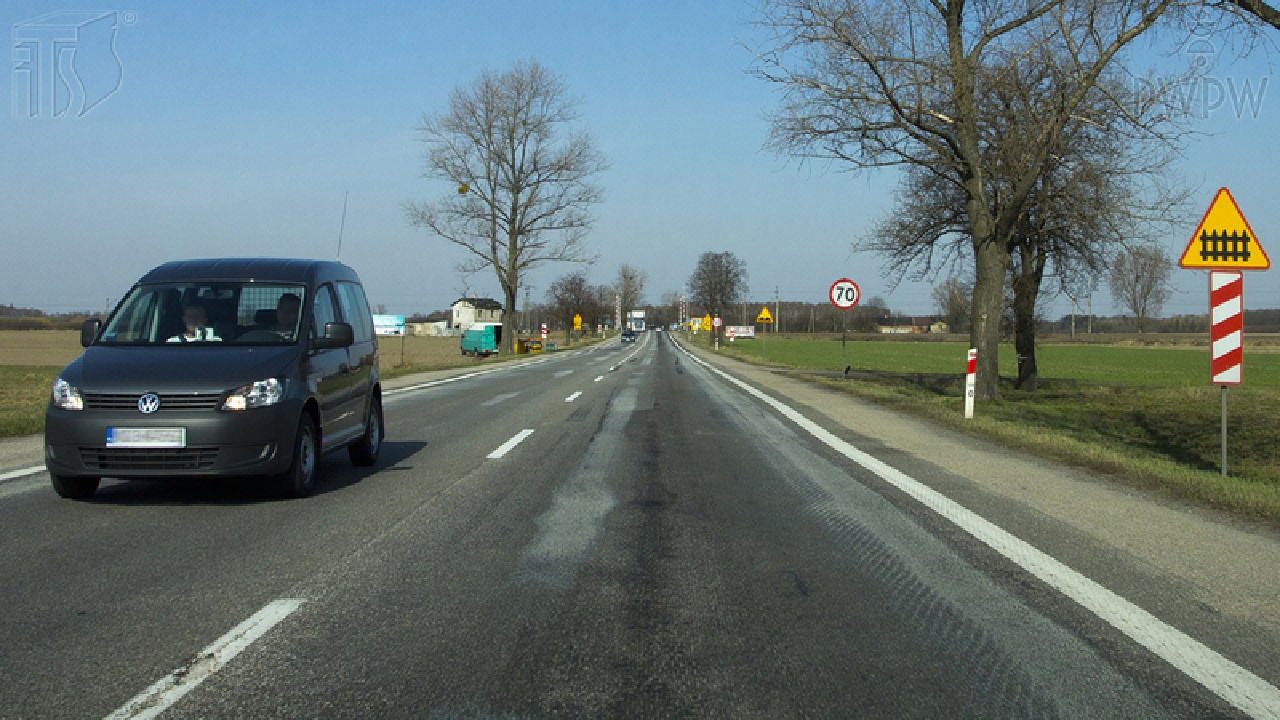A9: (1177, 186, 1272, 270)
B33_70: (828, 277, 860, 309)
